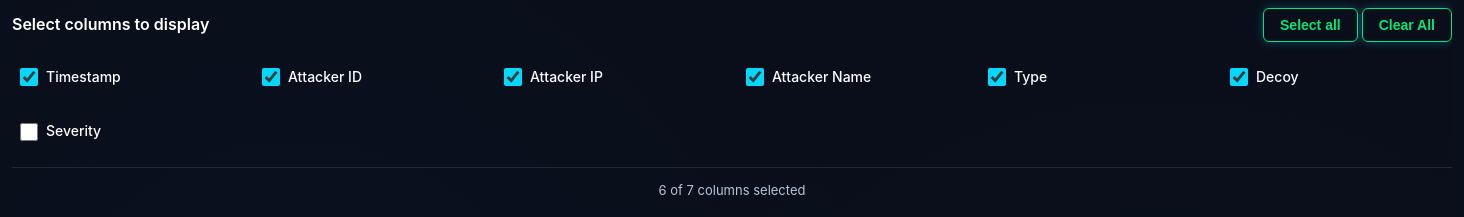
ColumnSelector › shows "All columns visible" when all columns are selected
Note: Check the unchecked column
What coordinates should you click on to do the following:
click the checkbox named "Toggle Severity"
I would click on:
 (29, 132)
Its box is x1=20 y1=123 x2=38 y2=141.
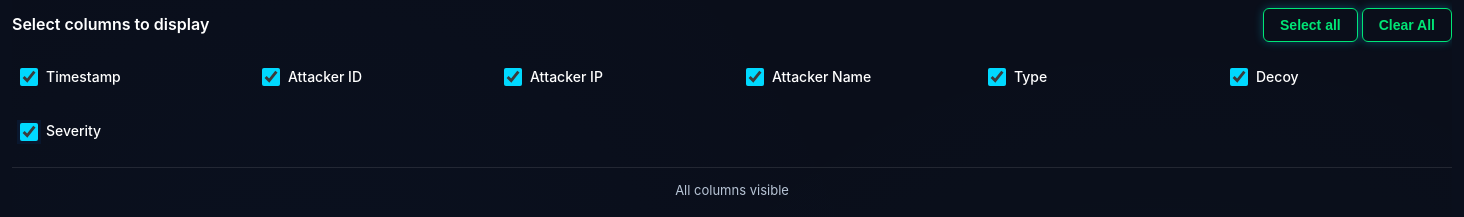
Check: the text "All columns visible" is shown, box x1=12 y1=167 x2=1452 y2=201
